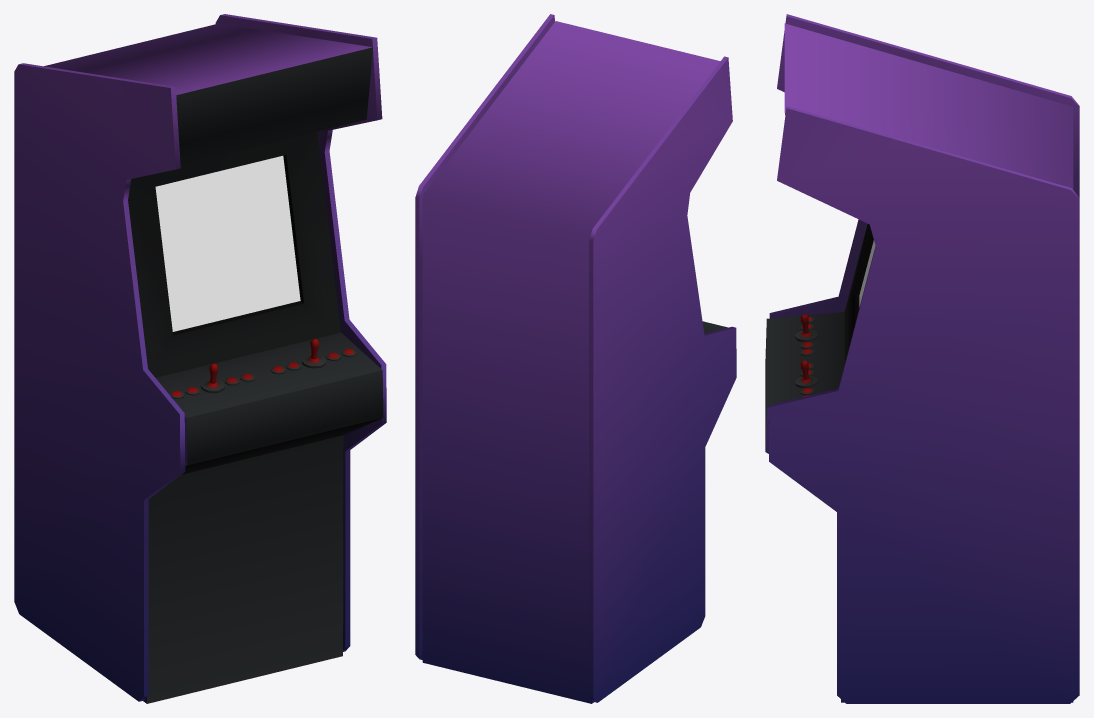
Rendered from human-electronics-arcade-machine_v1.glb.
The picture shows the model from 3 angles, left to right: view 1: azimuth 30°, elevation 25°; view 2: azimuth 150°, elevation 25°; view 3: azimuth 270°, elevation 25°; orthographic projection. The views are drawn at different scales.
Parts seen in each view (by area): view 1: Arcade Machine_v1; view 2: Arcade Machine_v1; view 3: Arcade Machine_v1.
Part boxes in pixels (x1,y1,x2,y2): Arcade Machine_v1: [14, 14, 386, 703]; Arcade Machine_v1: [415, 14, 736, 703]; Arcade Machine_v1: [765, 14, 1079, 703].
Bounding box in the file's own units: 0.6092 × 1.8 × 0.8587.
